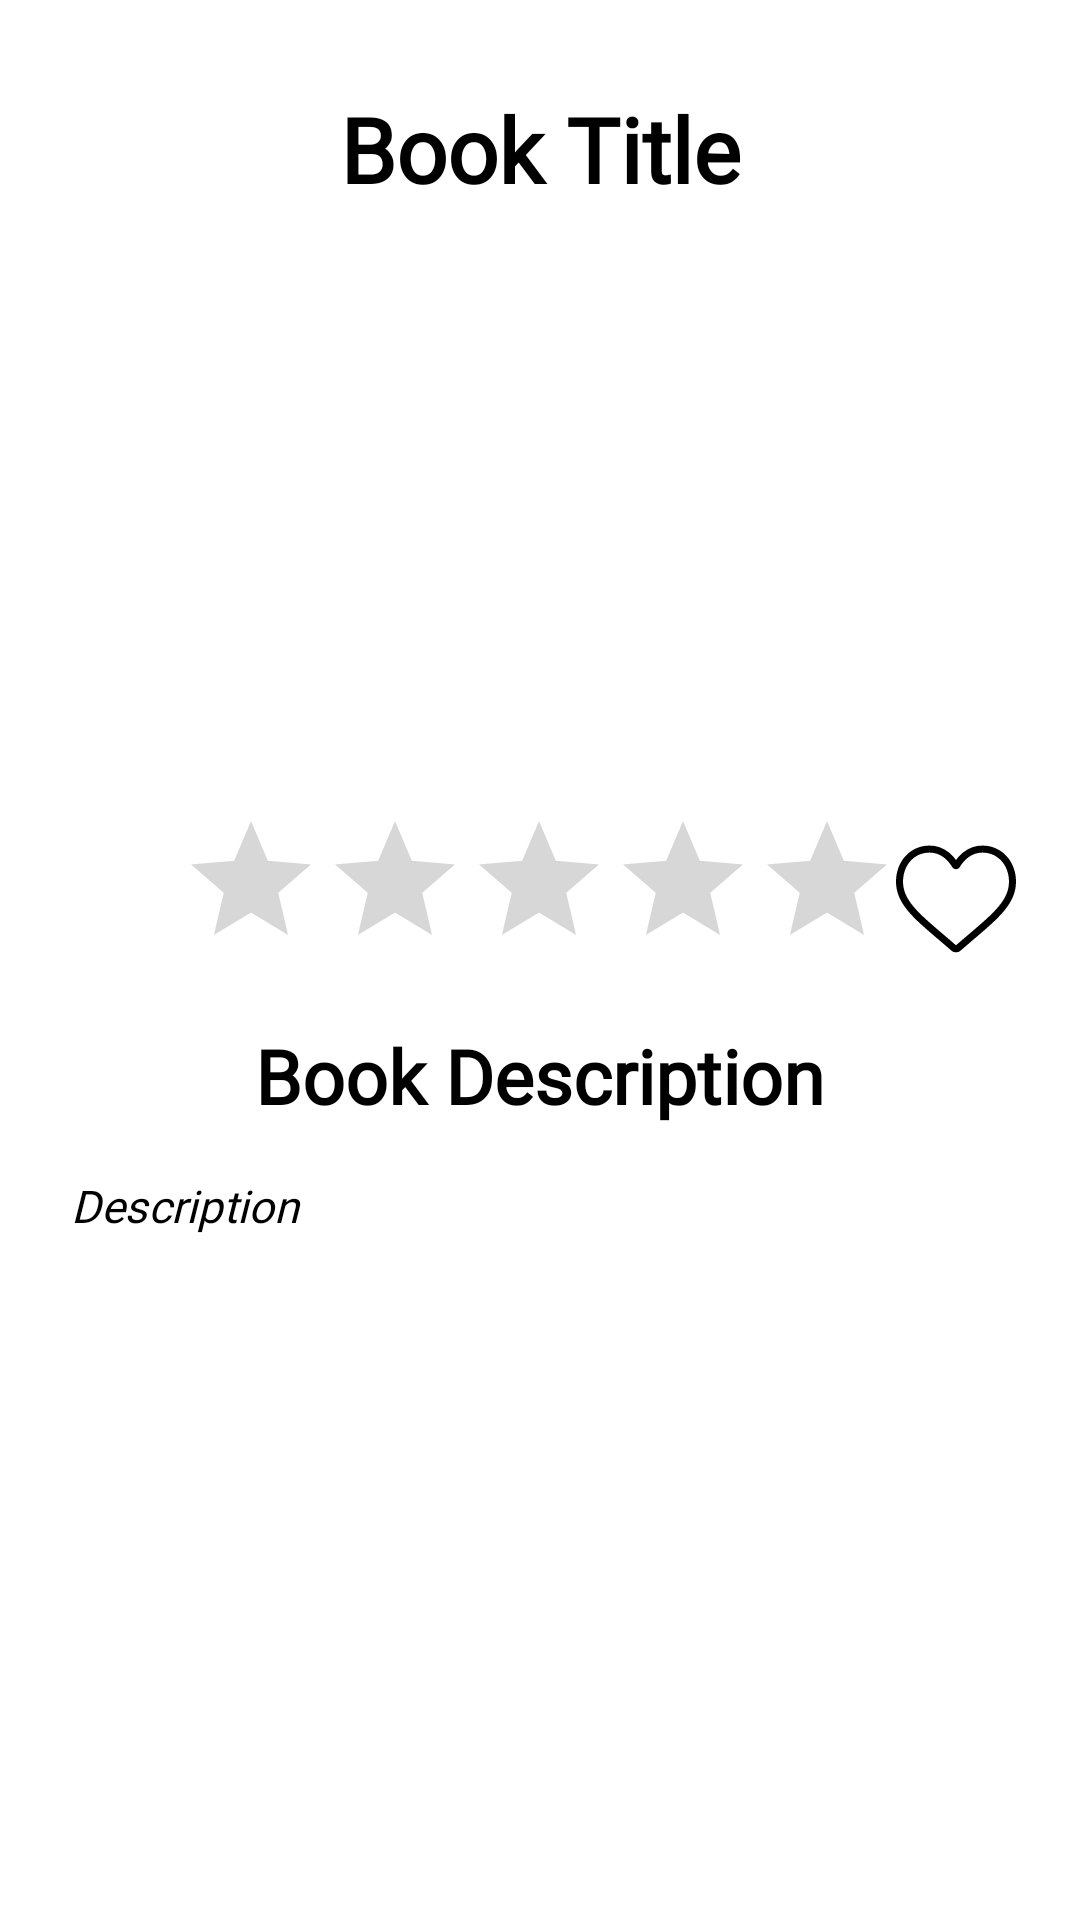

Icons on this 1080×1920 Android screen, each with the point to tap as point (x, y):
favorite: point (956, 899)
